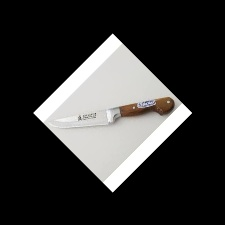k1: (48, 105, 124, 130)
